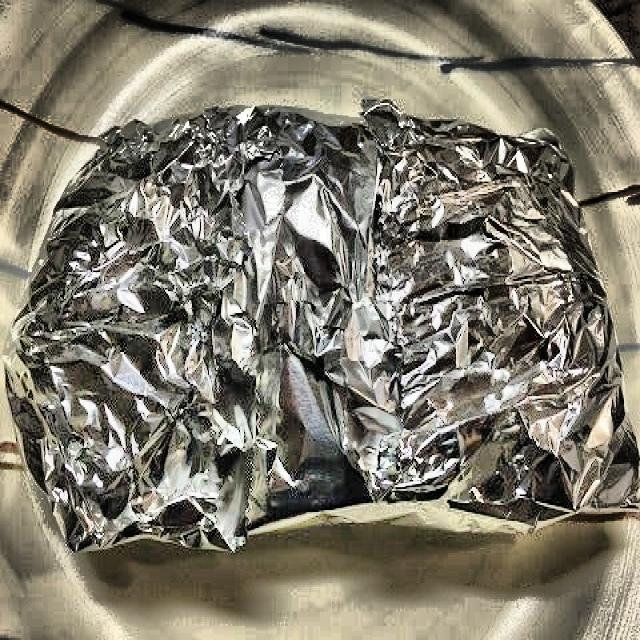Foil: (0, 98, 640, 564)
